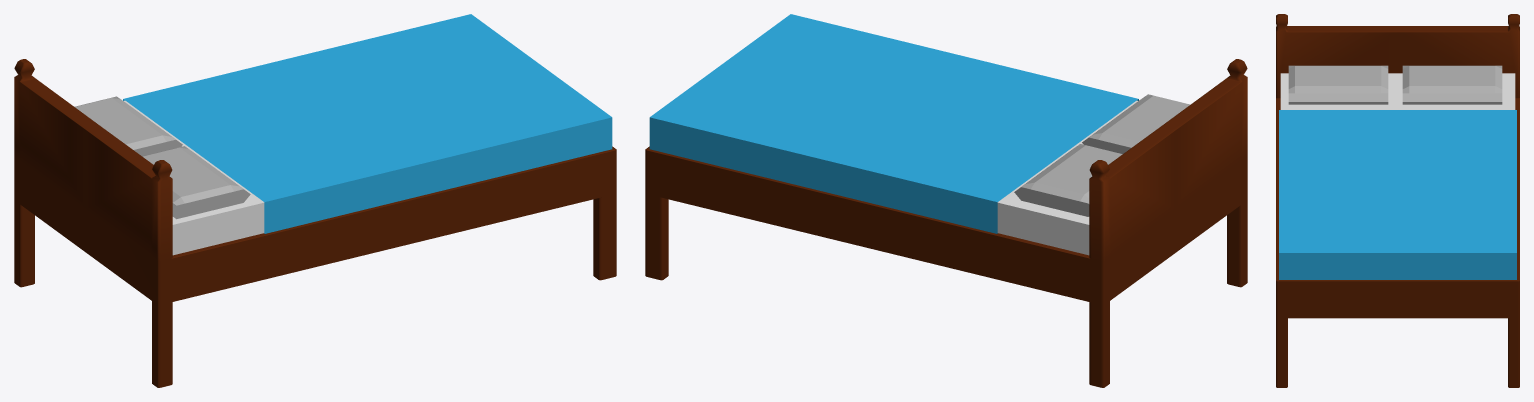
The model's file is ModeladoCama.fbx.
3 views of the same model, side by side, from view 1: azimuth 30°, elevation 25°; view 2: azimuth 150°, elevation 25°; view 3: azimuth 270°, elevation 25° (orthographic). The views are drawn at different scales.
Parts seen in each view (by area): view 1: Sabana, MarcoCama, Almohada_1, Colchon, Almohada_2; view 2: Sabana, MarcoCama, Colchon, Almohada_2, Almohada_1; view 3: Sabana, MarcoCama, Almohada_2, Almohada_1, Colchon.
Part boxes in pixels (<box>): Sabana: <box>123,14,612,233</box>; MarcoCama: <box>14,59,616,387</box>; Almohada_1: <box>142,146,250,219</box>; Colchon: <box>124,100,264,255</box>; Almohada_2: <box>74,96,182,156</box>; Sabana: <box>649,14,1138,233</box>; MarcoCama: <box>645,59,1247,387</box>; Colchon: <box>997,100,1137,255</box>; Almohada_2: <box>1014,144,1122,216</box>; Almohada_1: <box>1082,94,1190,153</box>; Sabana: <box>1279,110,1516,279</box>; MarcoCama: <box>1276,14,1519,387</box>; Almohada_2: <box>1402,65,1502,104</box>; Almohada_1: <box>1288,65,1388,104</box>; Colchon: <box>1280,73,1515,109</box>.
Size of the model in its own units: 704 by 326 by 384.
